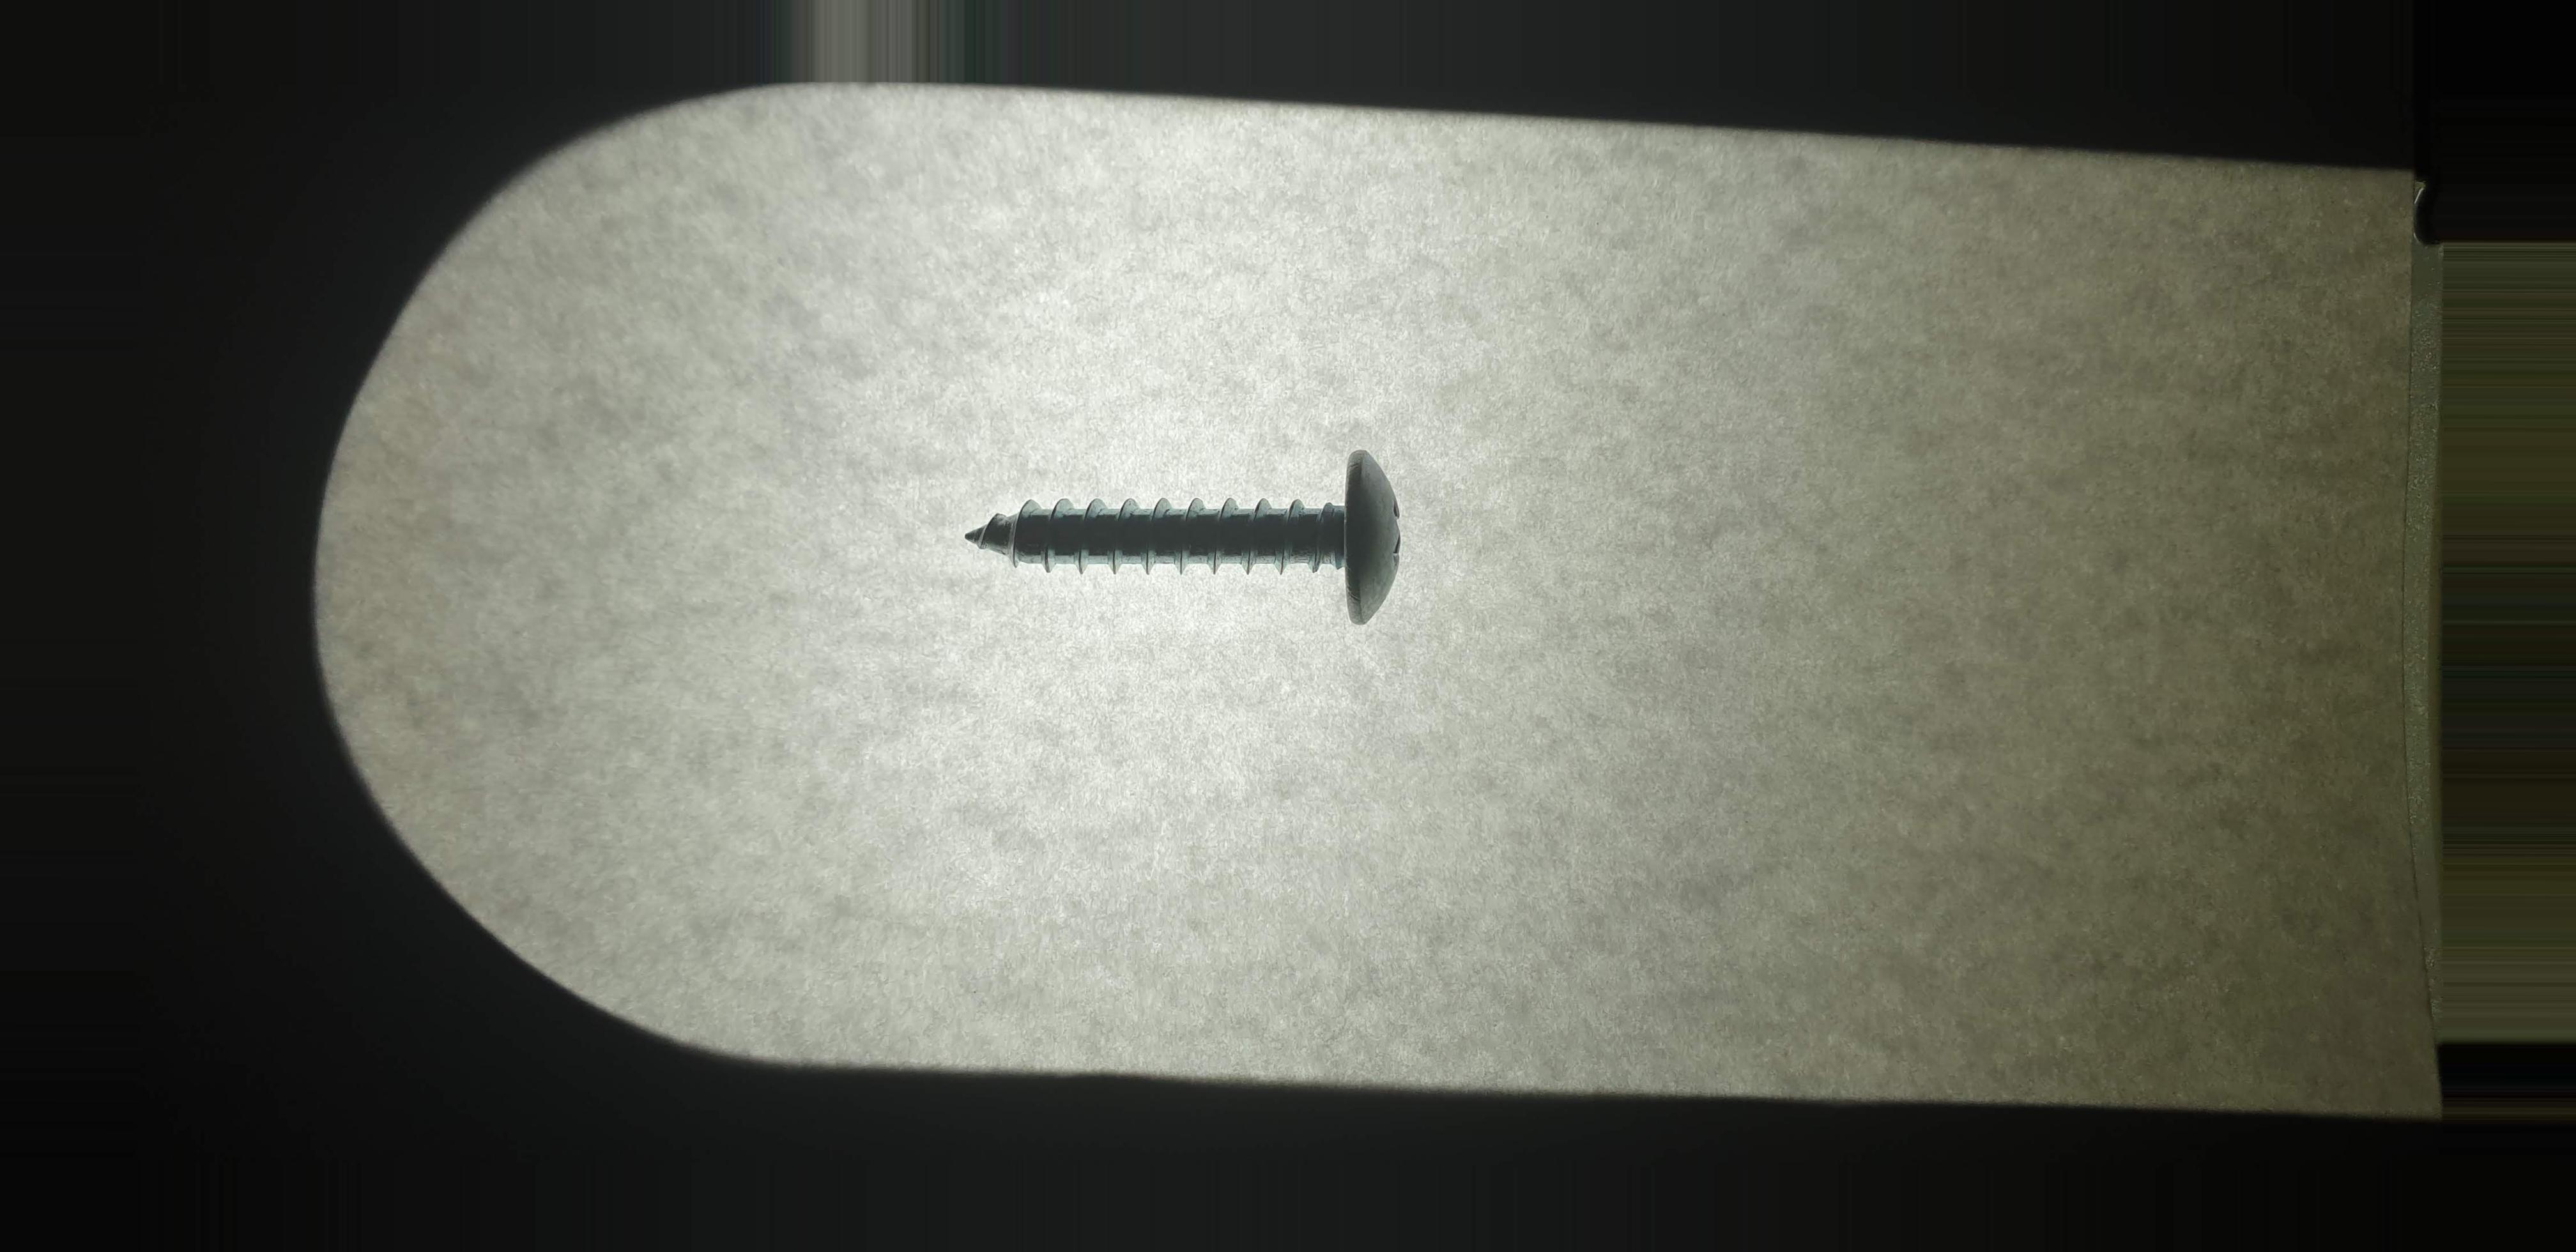S002: (936, 430, 1452, 651)
